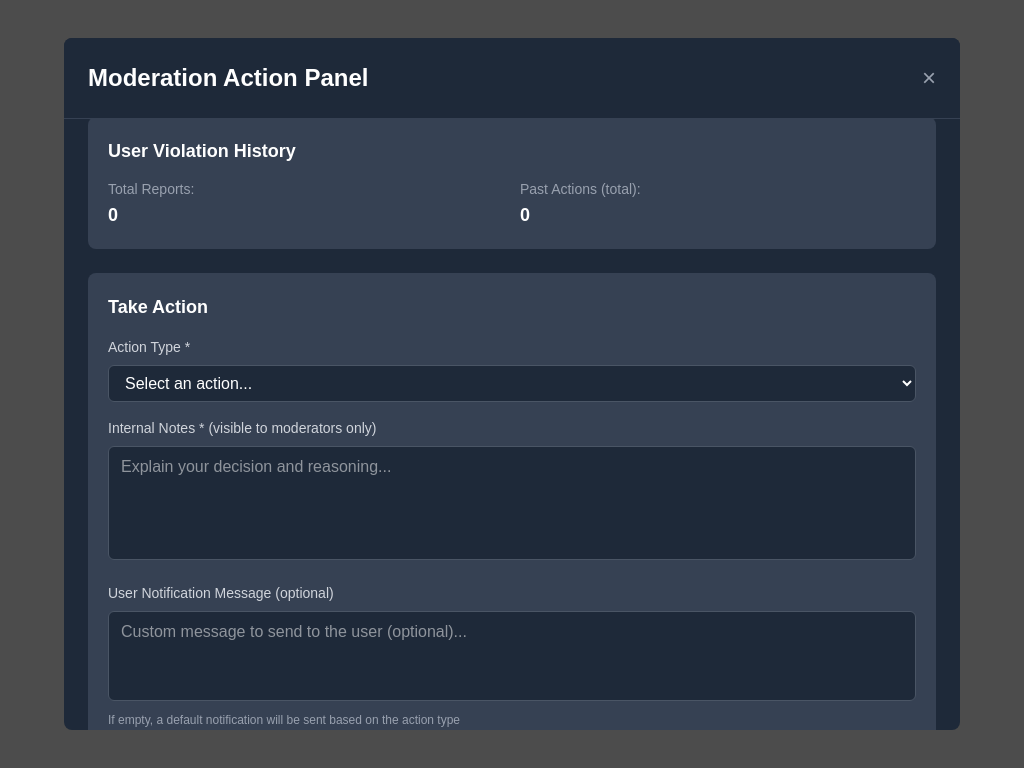
Test: ModerationActionPanel › Confirmation Dialogs › should display warning message in album removal confirmation dialog
(page scrolled)
Select content removal
Select "Remove Content" in the dropdown labelled "Action Type *" at (512, 384), box x1=108 y1=365 x2=916 y2=402
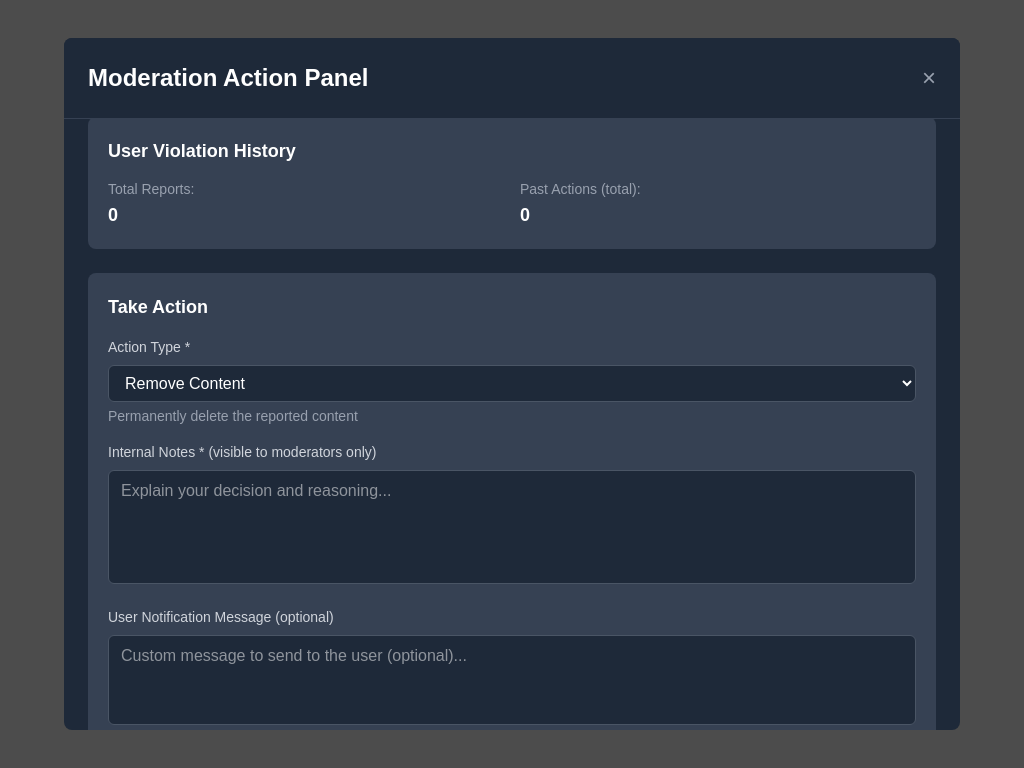
Fill in internal notes
Type "Removing inappropriate album" into the text box labelled "Internal Notes * (visible to moderators only)" at (512, 527), box x1=108 y1=470 x2=916 y2=584
(page scrolled)
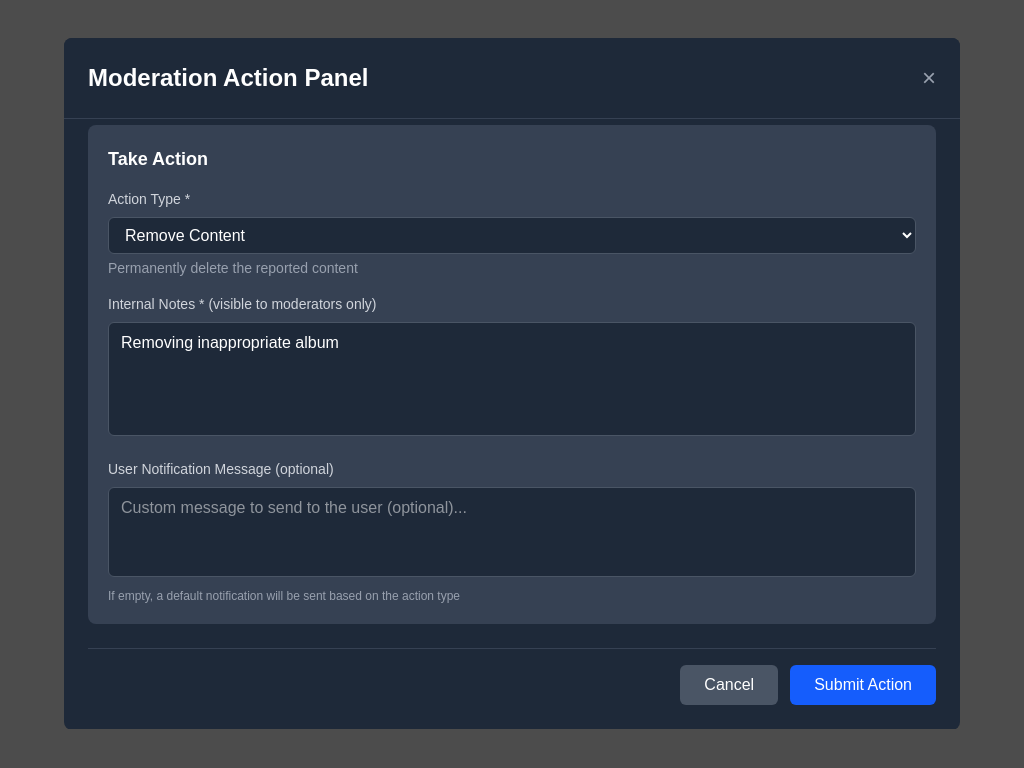
Click the button "Submit Action" at (863, 685), box x1=790 y1=665 x2=936 y2=705
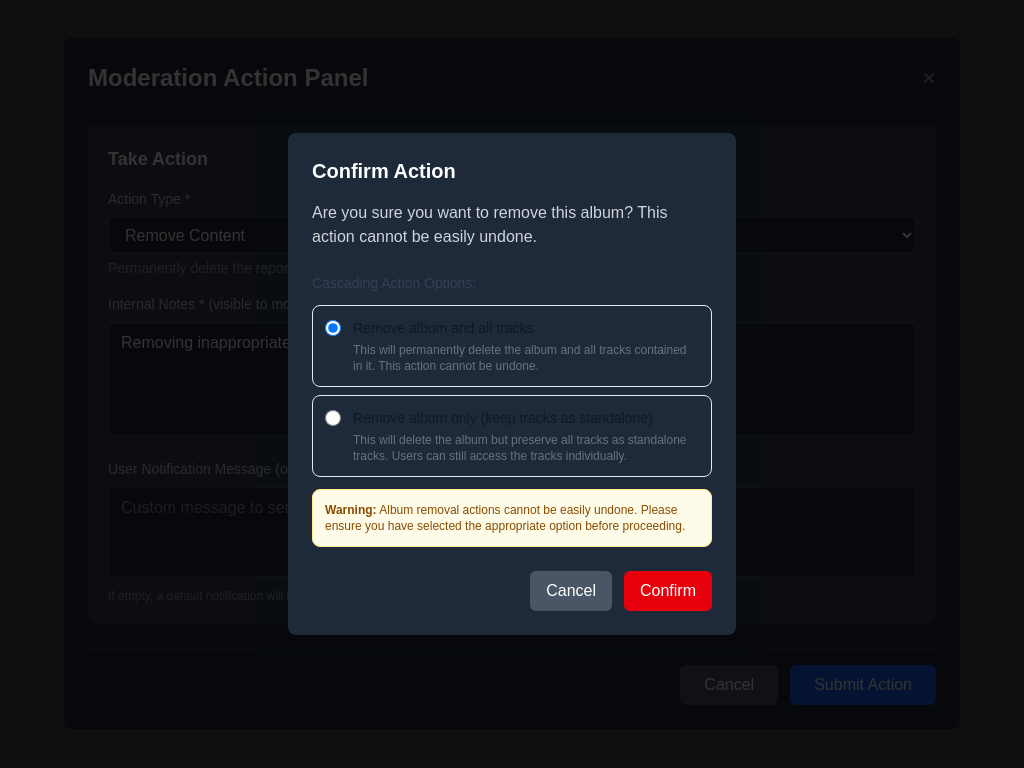
Expected: the text "This action cannot be easily undone" is shown, x1=312 y1=204 x2=667 y2=245
